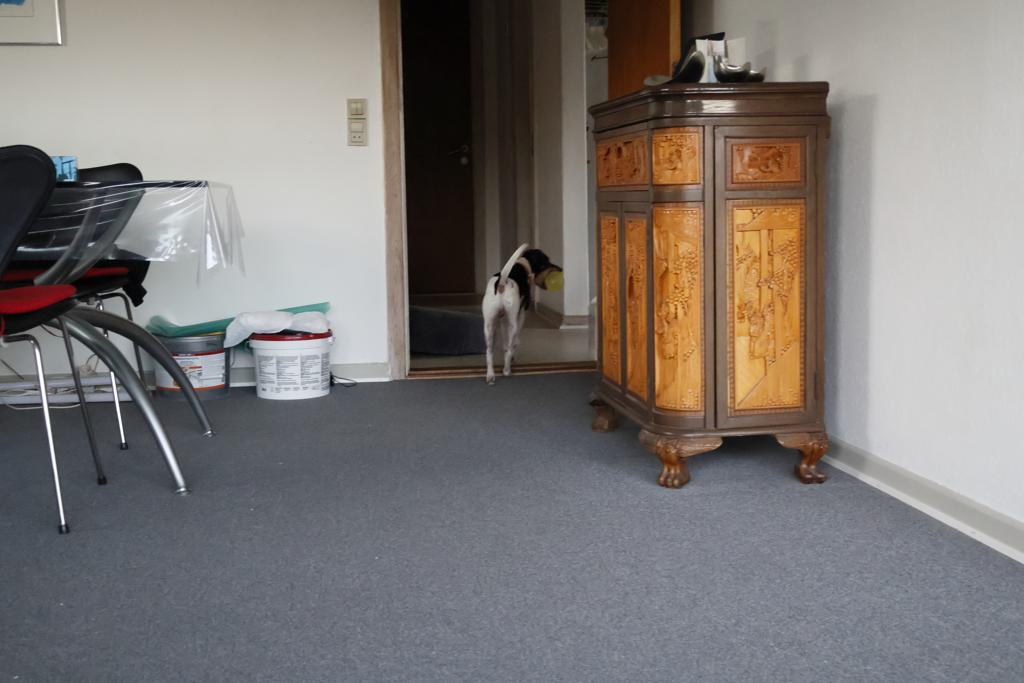Dog: (474, 238, 570, 388)
